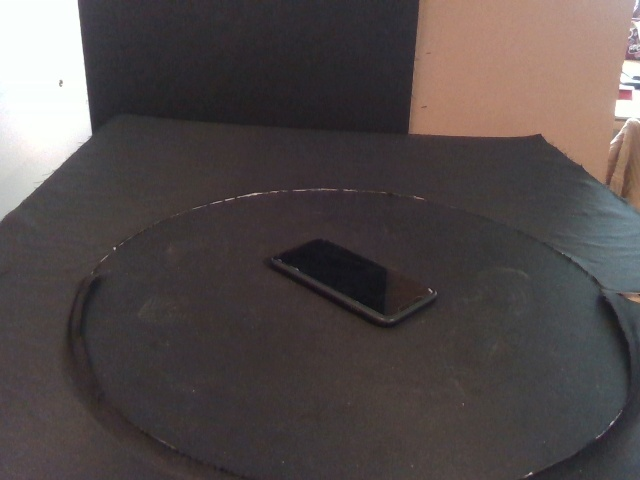phone: (271, 236, 437, 329)
